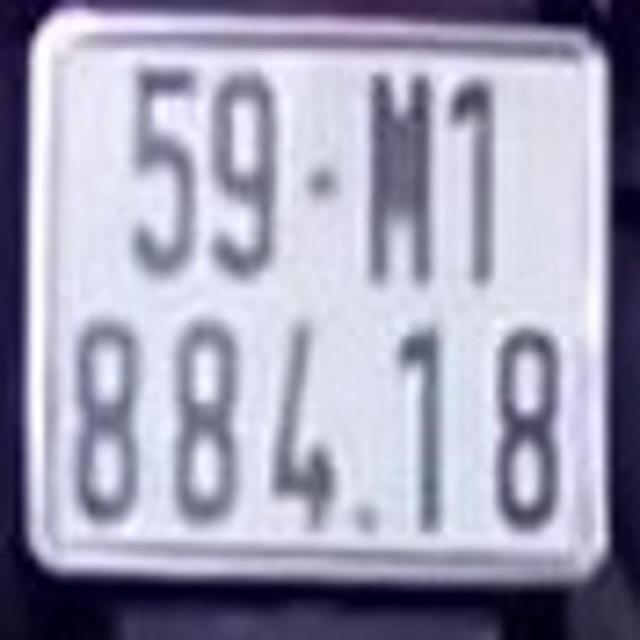1: (452, 71, 498, 275), (401, 321, 442, 537)
4: (275, 320, 336, 533)
5: (129, 63, 194, 272)
8: (73, 321, 139, 513), (499, 327, 561, 530), (180, 324, 238, 516)
9: (212, 66, 278, 273)
M: (366, 66, 433, 271)
